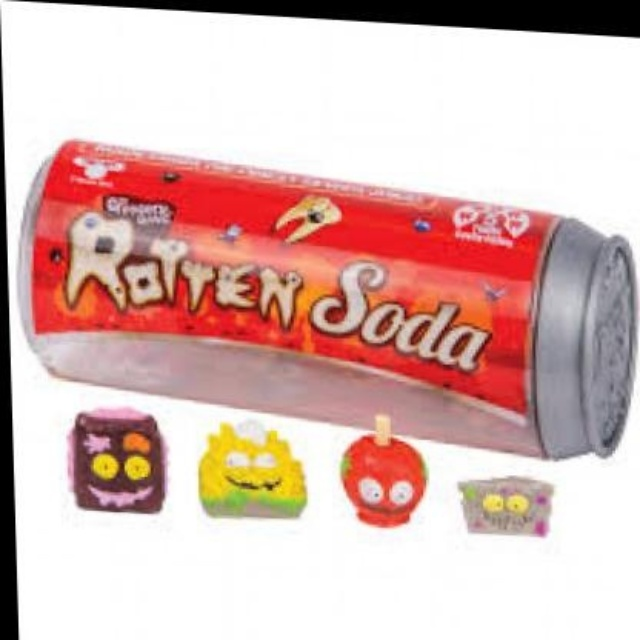trash: (20, 142, 634, 457)
